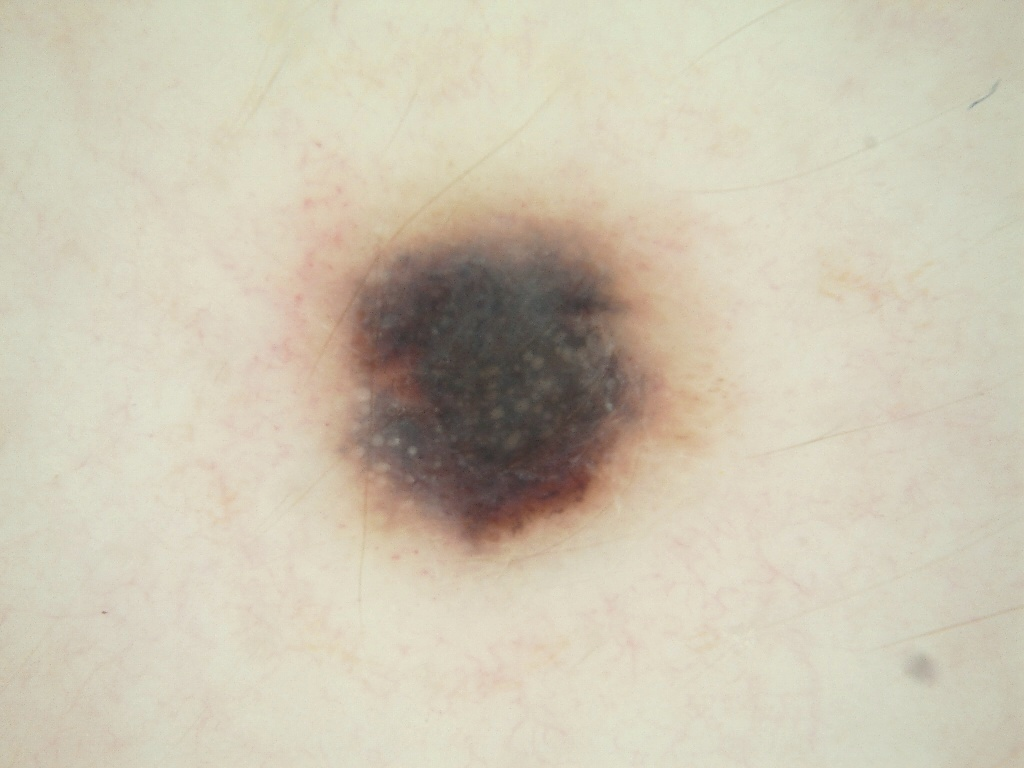Detected Lesion: (318, 183, 689, 560)
